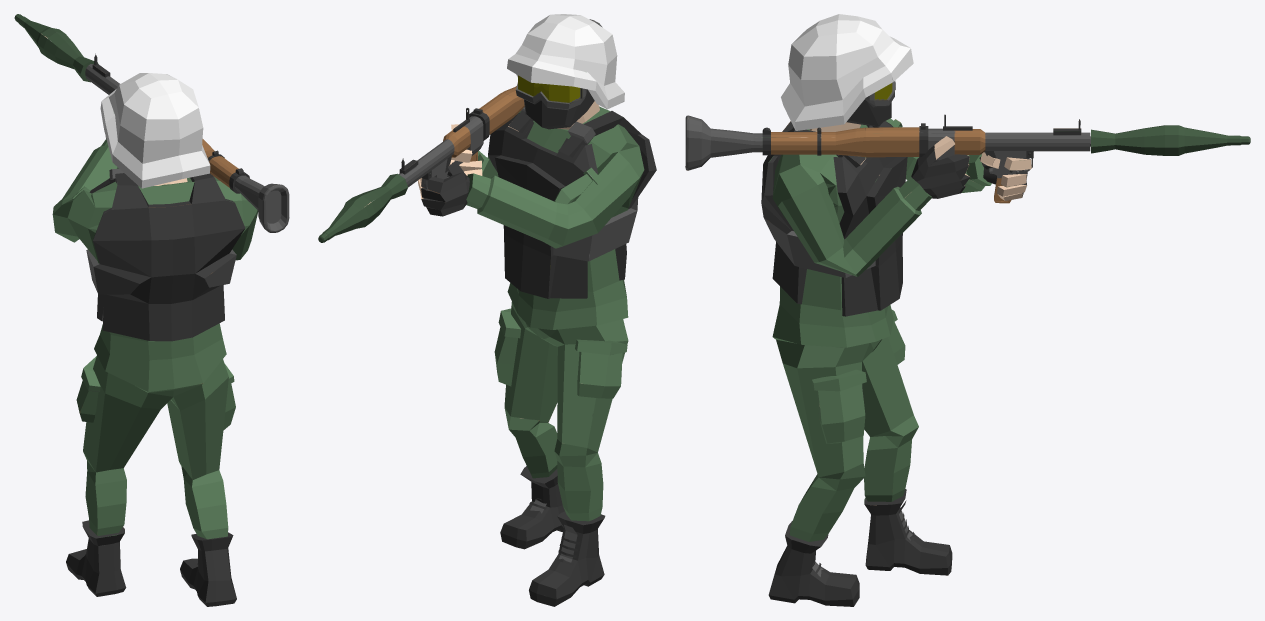
The model's file is Soldier_RPG.glb.
The picture shows the model from 3 angles, left to right: view 1: azimuth 30°, elevation 25°; view 2: azimuth 150°, elevation 25°; view 3: azimuth 270°, elevation 25°; orthographic projection. The views are drawn at different scales.
Visible parts, largest first — view 1: Soldat; view 2: Soldat; view 3: Soldat.
Part boxes in pixels (x1,y1,x2,y2): Soldat: (14,14,289,606); Soldat: (318,14,656,606); Soldat: (685,14,1250,606).
Size of the model in its own units: 0.6821 by 2 by 1.82.
Materials: 1 (1 with a texture image).
